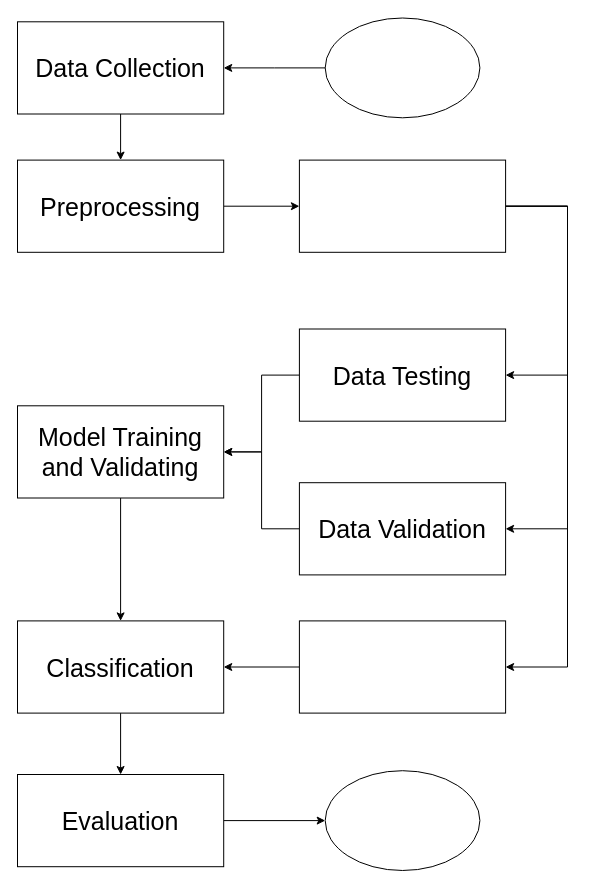
The diagram is 593 pixels wide and 888 high, and some of its shapes have lost their labels. The shapes that lost their labels are listed below. From the top down, each one's centre as x and y in pixels, then its label:
(x=402, y=67): Start
(x=402, y=205): Data Splitting
(x=402, y=666): Data Training
(x=402, y=820): End
